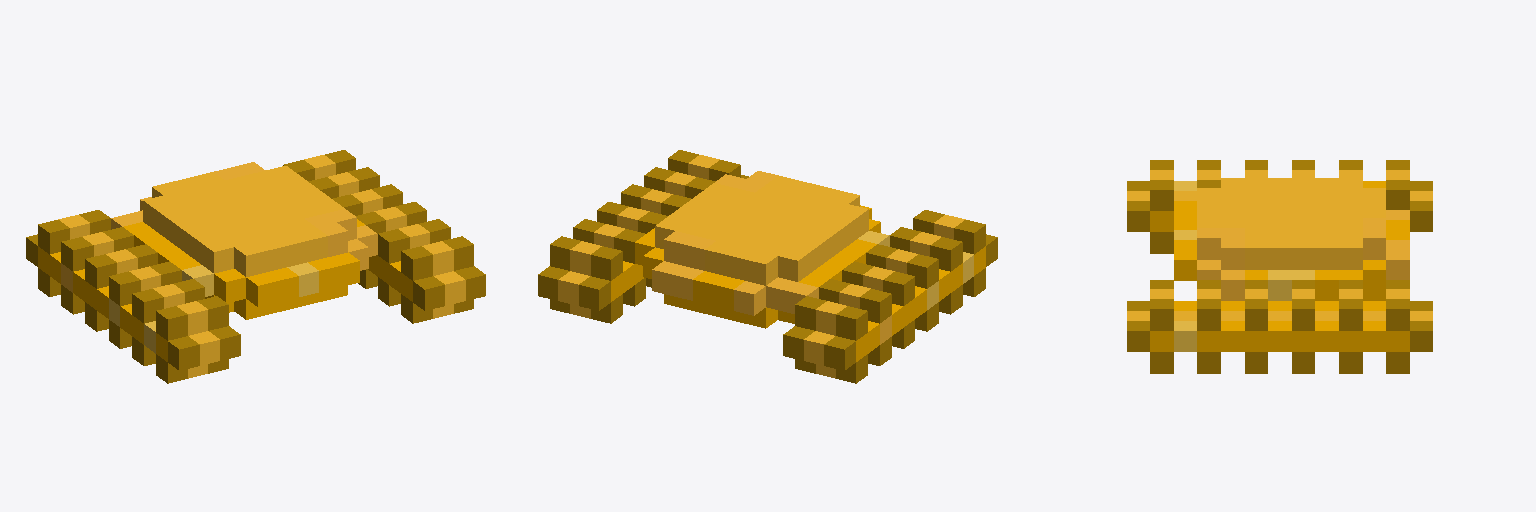
The picture shows the model from 3 angles: view 1: azimuth 30°, elevation 25°; view 2: azimuth 150°, elevation 25°; view 3: azimuth 270°, elevation 25°; orthographic projection.
Visible parts, largest first — view 1: object 1; view 2: object 1; view 3: object 1.
Boxes of the visible parts, <box> form: object 1: <box>26,150,485,383</box>; object 1: <box>538,150,997,383</box>; object 1: <box>1127,160,1432,373</box>.
Bounding box in the file's own units: 1.5 × 0.4 × 1.3.
1 materials, 1 textured.